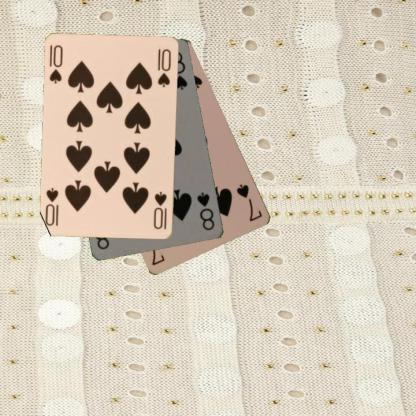10s: (47, 43, 64, 86), (151, 189, 168, 231)
7s: (234, 181, 264, 223)
8s: (194, 190, 216, 232)
